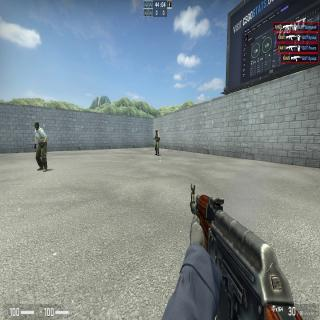CT-Body: (154, 129, 160, 156)
CT-Head: (156, 129, 158, 134)
T-Body: (34, 122, 47, 170)
T-Head: (35, 122, 39, 130)
